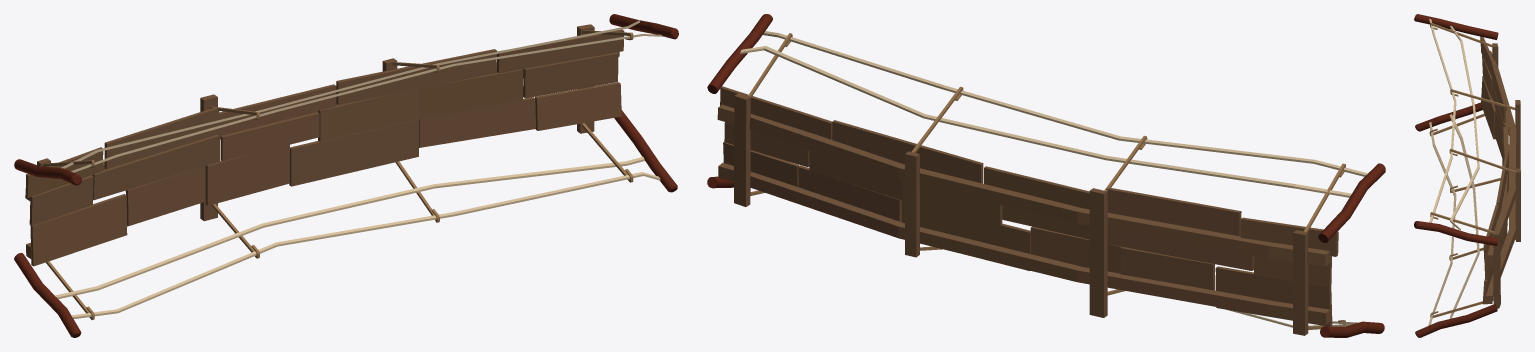
The model's file is Bridge_8m_01.fbx.
3 views of the same model, side by side, from view 1: azimuth 30°, elevation 25°; view 2: azimuth 150°, elevation 25°; view 3: azimuth 270°, elevation 25° (orthographic). The views are drawn at different scales.
Parts seen in each view (by area): view 1: Bridge 8 m; view 2: Bridge 8 m; view 3: Bridge 8 m.
Boxes of the visible parts, box(x1,y1,x2,y2) form: Bridge 8 m: box(14, 14, 678, 337); Bridge 8 m: box(707, 14, 1385, 337); Bridge 8 m: box(1414, 14, 1520, 337).
Bounding box in the file's own units: 1012 × 262 × 217.
